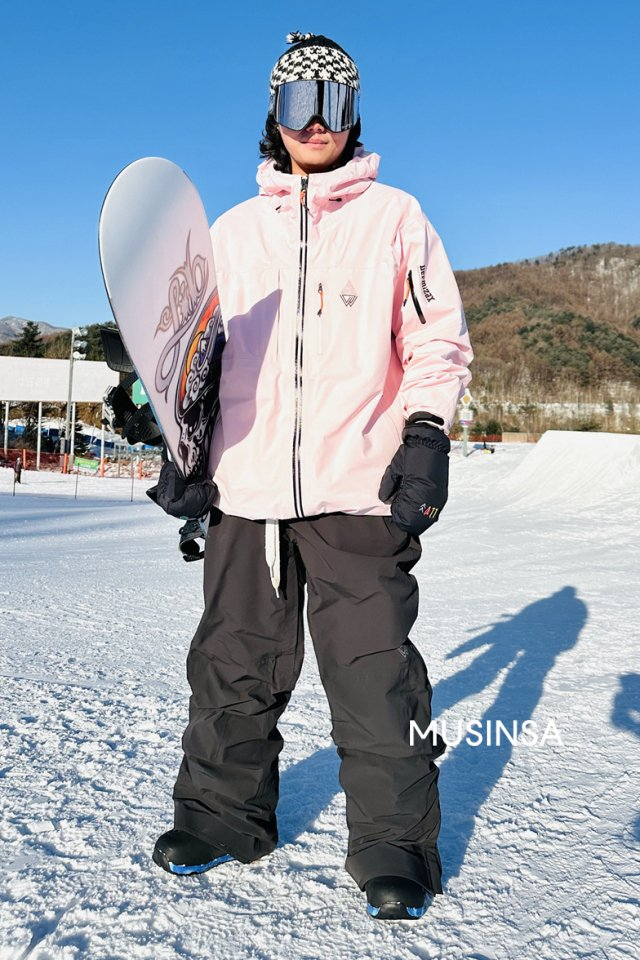Beanie: (254, 29, 366, 93)
Glasses: (273, 82, 362, 132)
Outer: (184, 153, 493, 518)
Pants: (171, 495, 455, 871)
Shoes: (148, 810, 442, 926)
